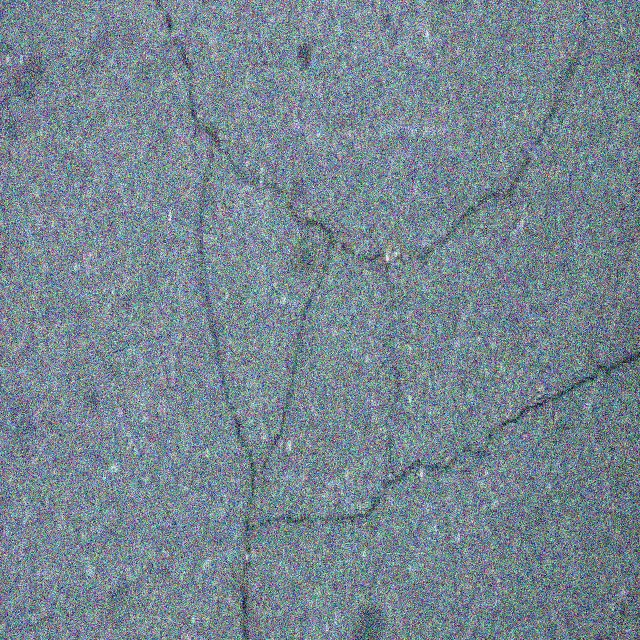SurfaceCrack: (124, 4, 640, 634)
